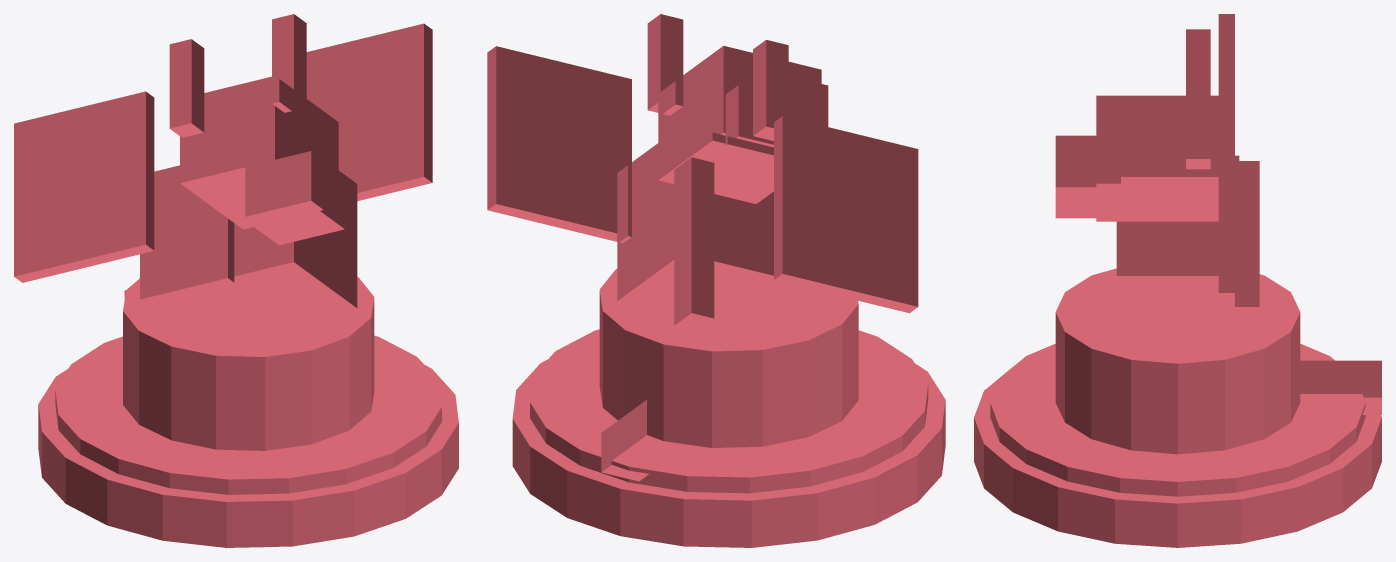
File: monster_dragon_pawn.glb
The picture shows the model from 3 angles, left to right: view 1: azimuth 30°, elevation 25°; view 2: azimuth 150°, elevation 25°; view 3: azimuth 270°, elevation 25°; orthographic projection. The views are drawn at different scales.
Parts seen in each view (by area): view 1: DragonlordPawn_Node; view 2: DragonlordPawn_Node; view 3: DragonlordPawn_Node.
Boxes of the visible parts, bbox=[...] form: DragonlordPawn_Node: bbox=[14, 14, 458, 547]; DragonlordPawn_Node: bbox=[487, 14, 945, 547]; DragonlordPawn_Node: bbox=[974, 14, 1381, 547].
Bounding box in the file's own units: 1.12 × 1.09 × 1.
